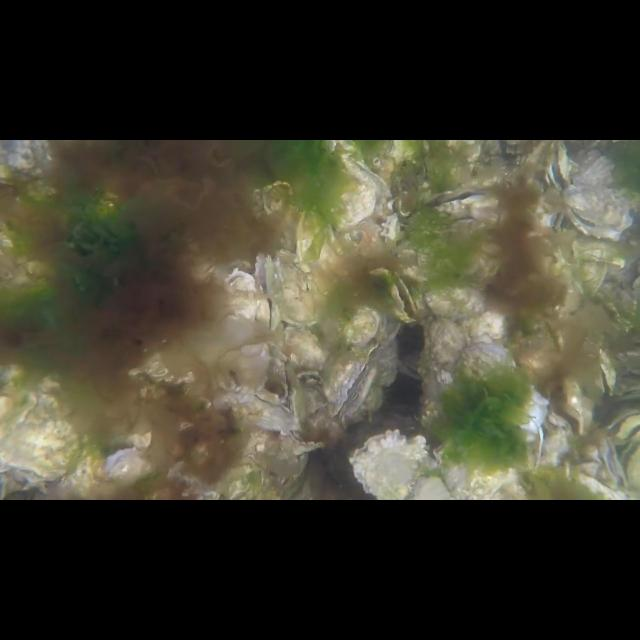Oyster-Closed: (444, 342, 550, 431), (0, 376, 80, 478), (432, 430, 526, 500), (320, 140, 378, 230), (296, 208, 348, 286), (424, 312, 468, 404), (272, 248, 320, 328), (226, 391, 302, 437), (282, 323, 330, 377), (419, 282, 489, 318), (572, 239, 626, 267), (576, 258, 608, 300)
Oyster-Open: (561, 151, 639, 241), (349, 428, 429, 499), (324, 340, 380, 418), (541, 372, 595, 438), (425, 188, 501, 234), (235, 342, 289, 406), (342, 302, 403, 348), (223, 266, 259, 324), (100, 447, 148, 488), (253, 254, 277, 332), (598, 436, 628, 488), (390, 274, 420, 322), (602, 407, 640, 443), (282, 428, 326, 458), (546, 140, 572, 190), (594, 352, 618, 398)
